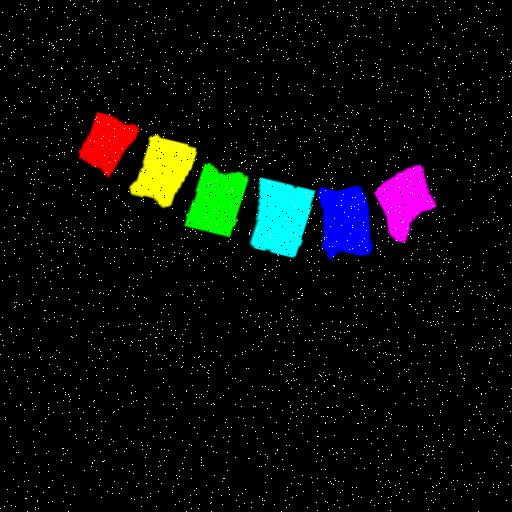L1: (81, 112, 140, 176)
L2: (132, 136, 198, 209)
L3: (186, 165, 251, 238)
L4: (255, 180, 315, 259)
L5: (323, 189, 375, 260)
S1: (377, 167, 439, 245)
